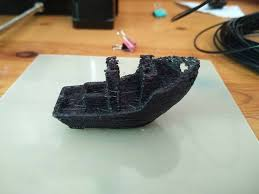fail: (132, 50, 206, 91), (92, 54, 132, 110)
